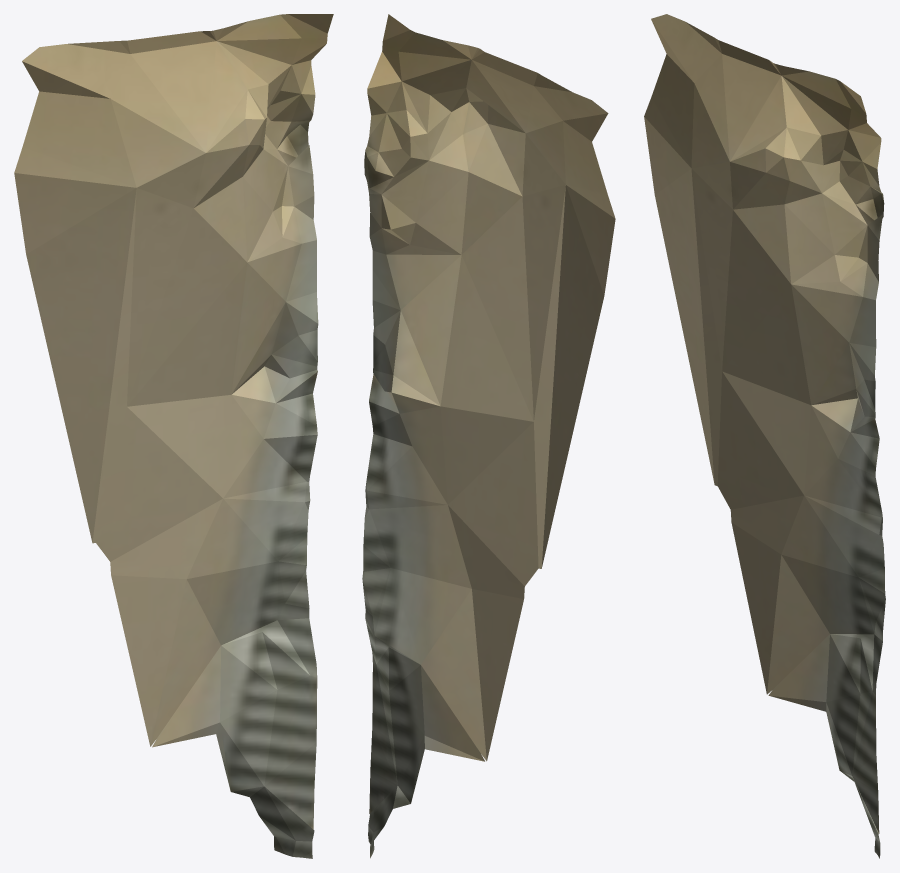
3 views of the same model, side by side, from view 1: azimuth 30°, elevation 25°; view 2: azimuth 150°, elevation 25°; view 3: azimuth 330°, elevation 25° (orthographic). The views are drawn at different scales.
Bounding box in the file's own units: 0.5703 × 1.67 × 0.1757.
Materials: 1 (1 with a texture image).
